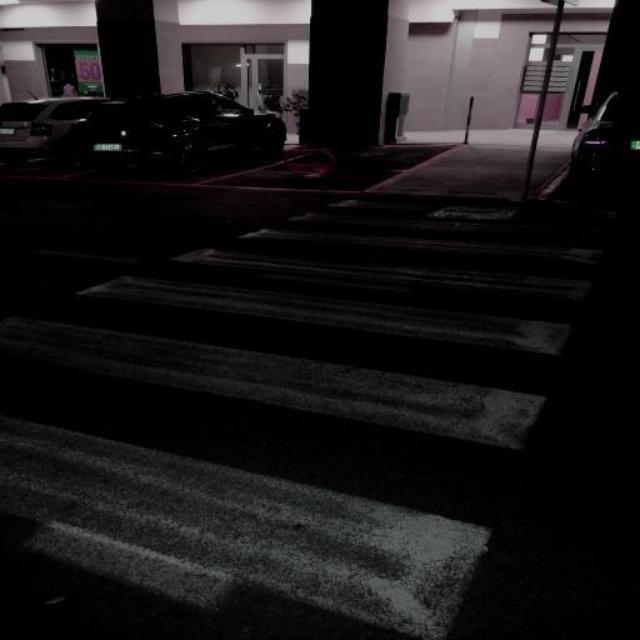sidewalk: (0, 210, 590, 640)
